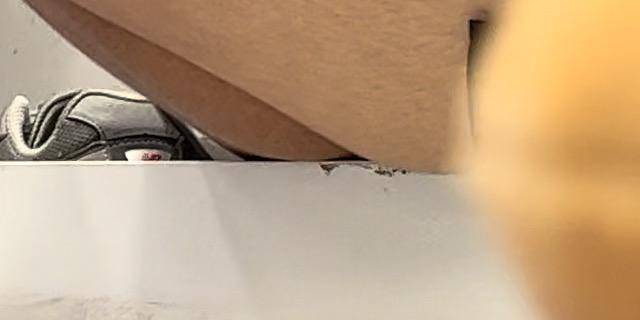burger: (423, 0, 640, 320)
